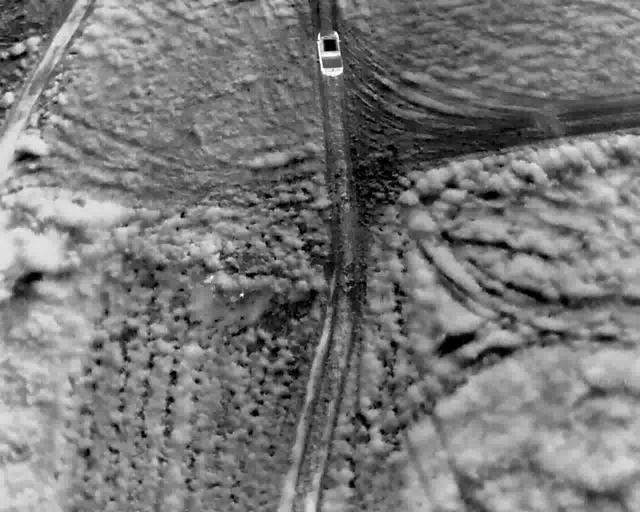car: (317, 30, 344, 77)
